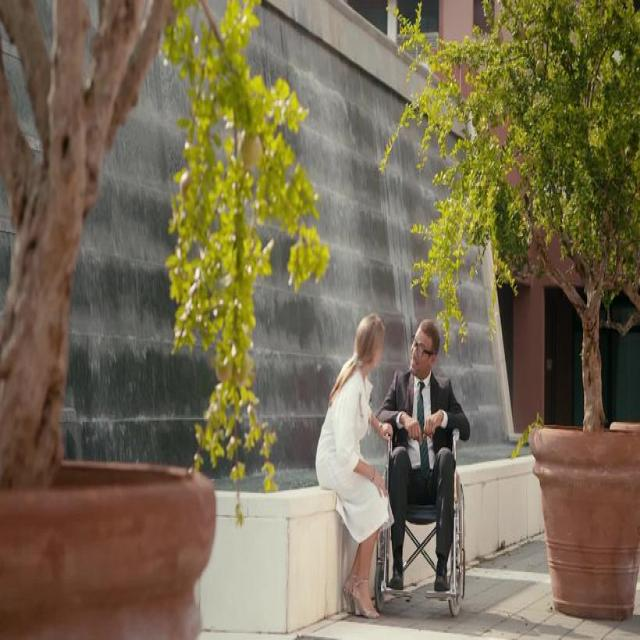wheelchairs: (369, 409, 472, 622)
